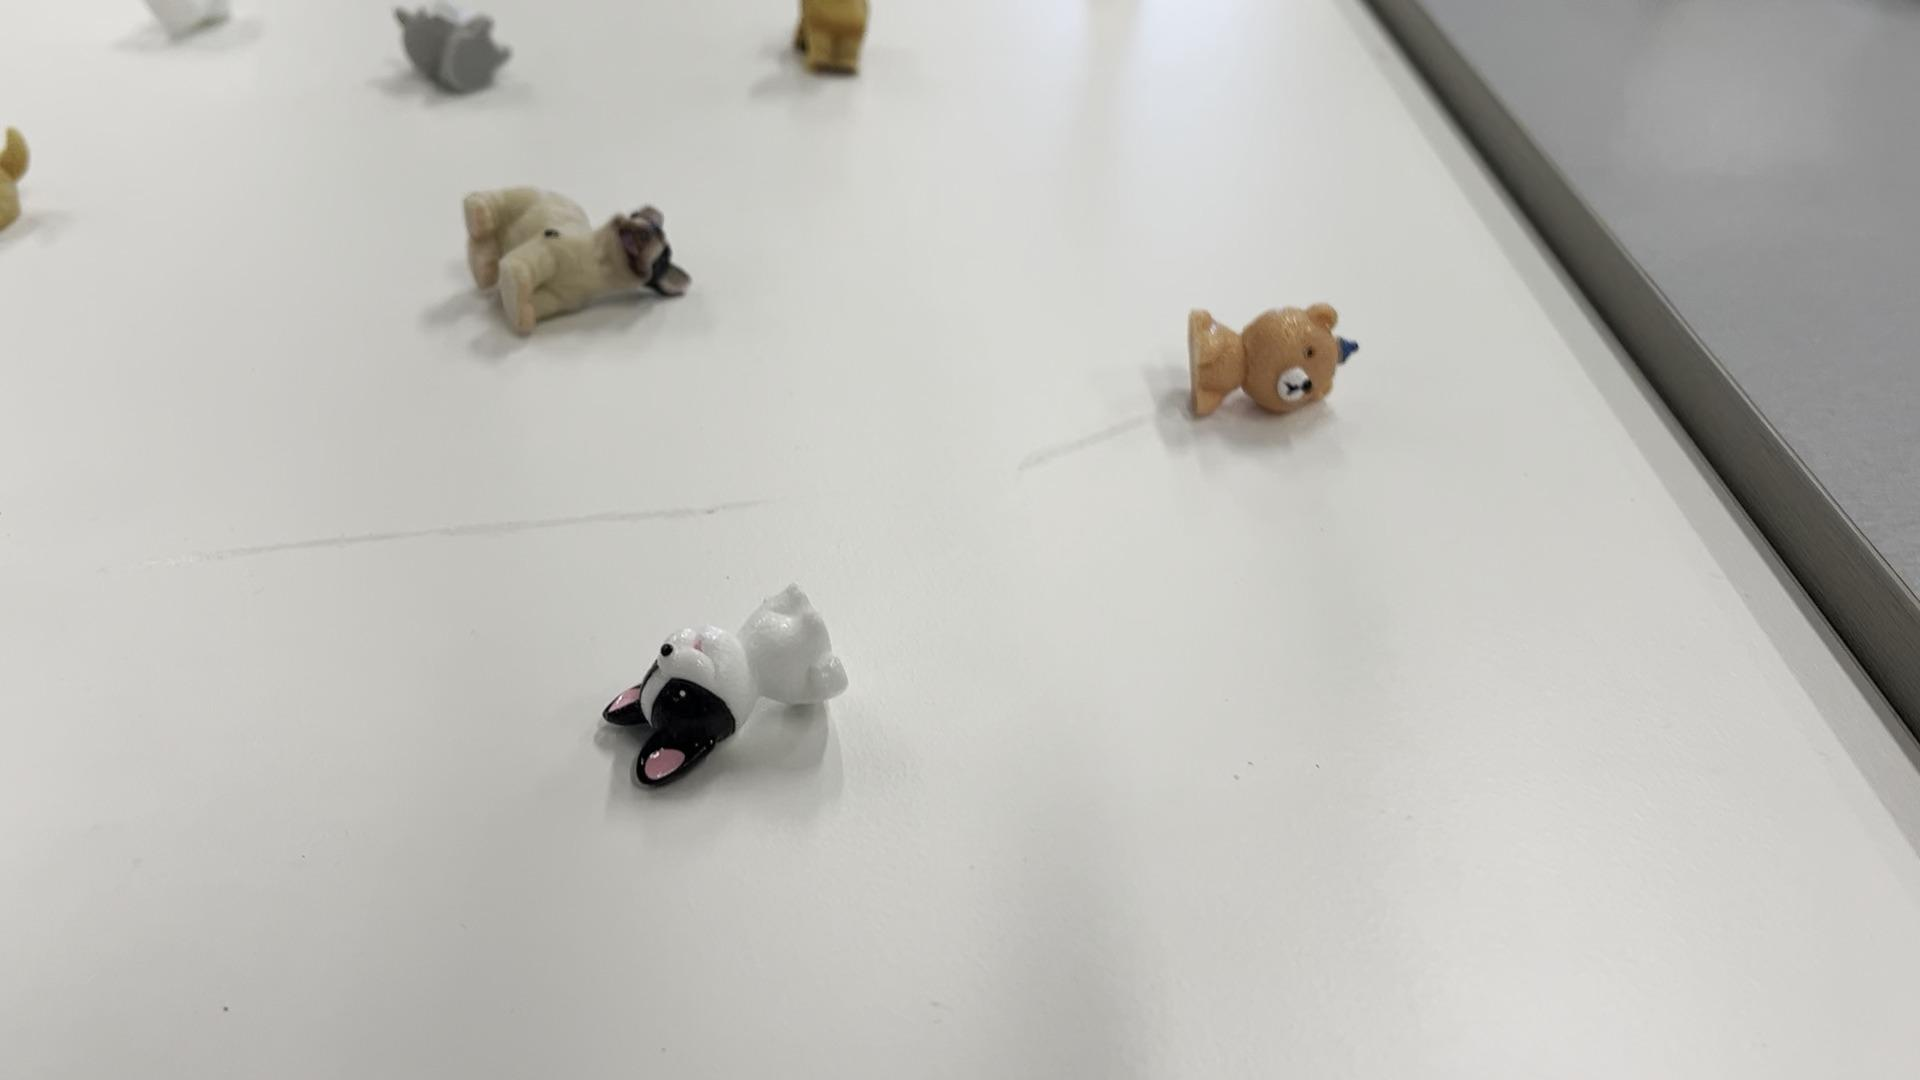pet: (591, 567, 858, 800), (456, 173, 698, 343), (1176, 293, 1365, 433), (393, 0, 521, 105)
